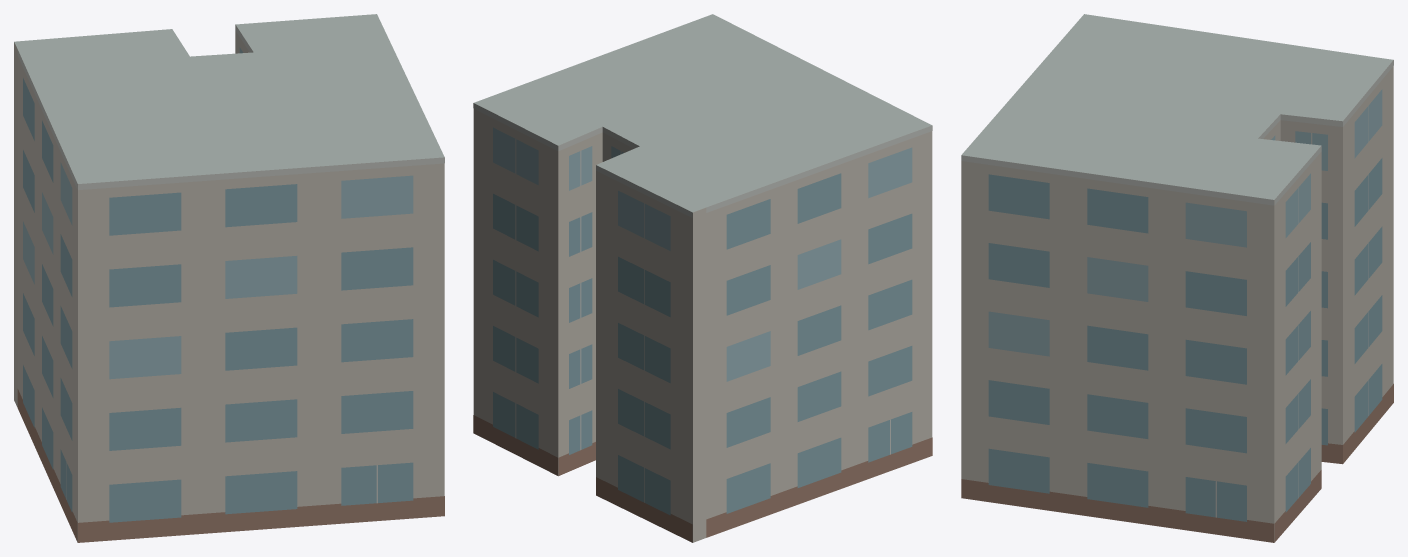
The model's file is survey-upis-32869774.glb.
3 views of the same model, side by side, from view 1: azimuth 30°, elevation 25°; view 2: azimuth 150°, elevation 25°; view 3: azimuth 270°, elevation 25° (orthographic). The views are drawn at different scales.
Parts seen in each view (by area): view 1: survey-upis-32869774.tmp; view 2: survey-upis-32869774.tmp; view 3: survey-upis-32869774.tmp.
Part boxes in pixels (x1,y1,x2,y2): survey-upis-32869774.tmp: [14, 14, 444, 542]; survey-upis-32869774.tmp: [473, 14, 932, 542]; survey-upis-32869774.tmp: [961, 14, 1393, 542].
Size of the model in its own units: 16.76 by 14.4 by 16.47.
